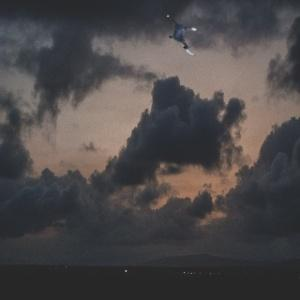drone: (163, 15, 207, 59)
